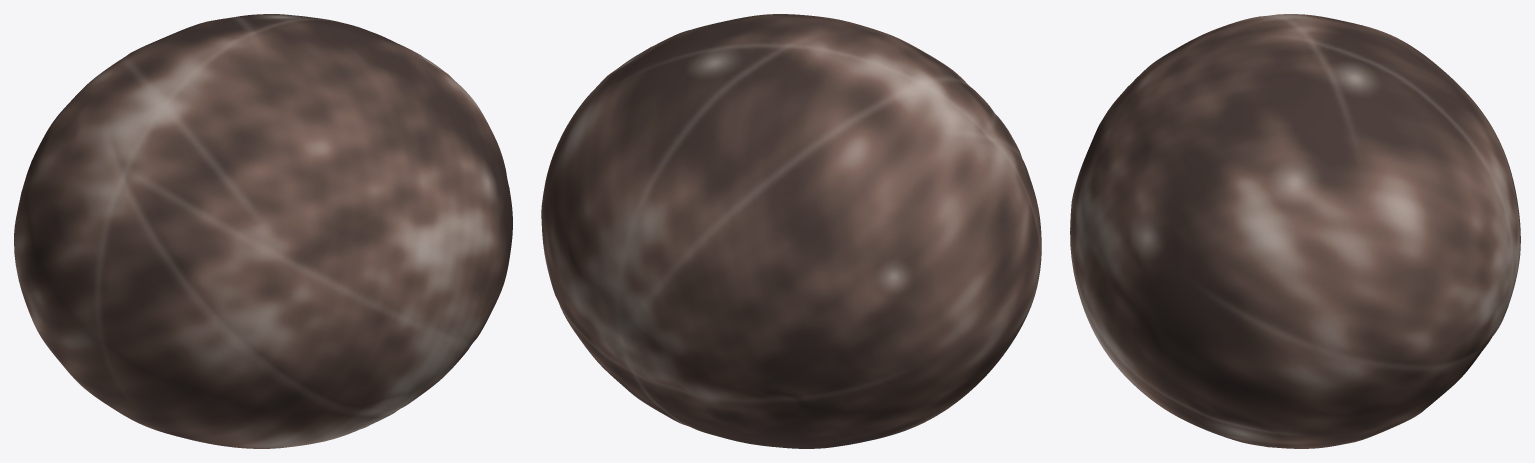
File: euc0005.glb
The picture shows the model from 3 angles, left to right: view 1: azimuth 30°, elevation 25°; view 2: azimuth 150°, elevation 25°; view 3: azimuth 270°, elevation 25°; orthographic projection. The views are drawn at different scales.
Parts seen in each view (by area): view 1: euc0005_body; view 2: euc0005_body; view 3: euc0005_body.
Part boxes in pixels (x1,y1,x2,y2): euc0005_body: (14, 14, 512, 448); euc0005_body: (541, 14, 1041, 448); euc0005_body: (1070, 14, 1520, 448).
Bounding box in the file's own units: 2.16 × 1.79 × 1.94.
1 material, 1 textured.
